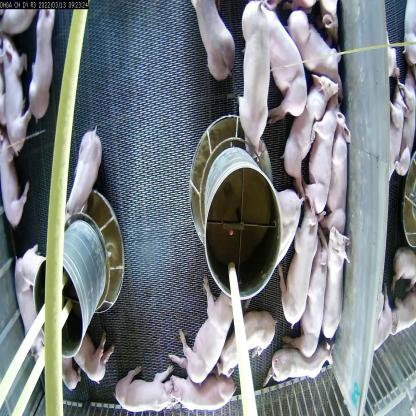Pig: (228, 0, 284, 155), (258, 0, 311, 120), (56, 114, 102, 233), (285, 66, 333, 180), (22, 4, 66, 128), (287, 195, 327, 326), (8, 245, 49, 372), (175, 284, 230, 367), (0, 38, 31, 171), (192, 0, 240, 84), (271, 338, 330, 394), (172, 359, 230, 414), (221, 307, 277, 359), (332, 105, 358, 216), (307, 109, 338, 200), (299, 251, 326, 342), (120, 350, 161, 409), (0, 128, 25, 224), (329, 218, 347, 336)
